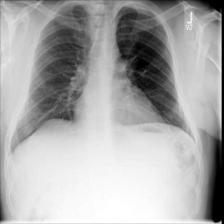normal: (10, 0, 198, 152)
